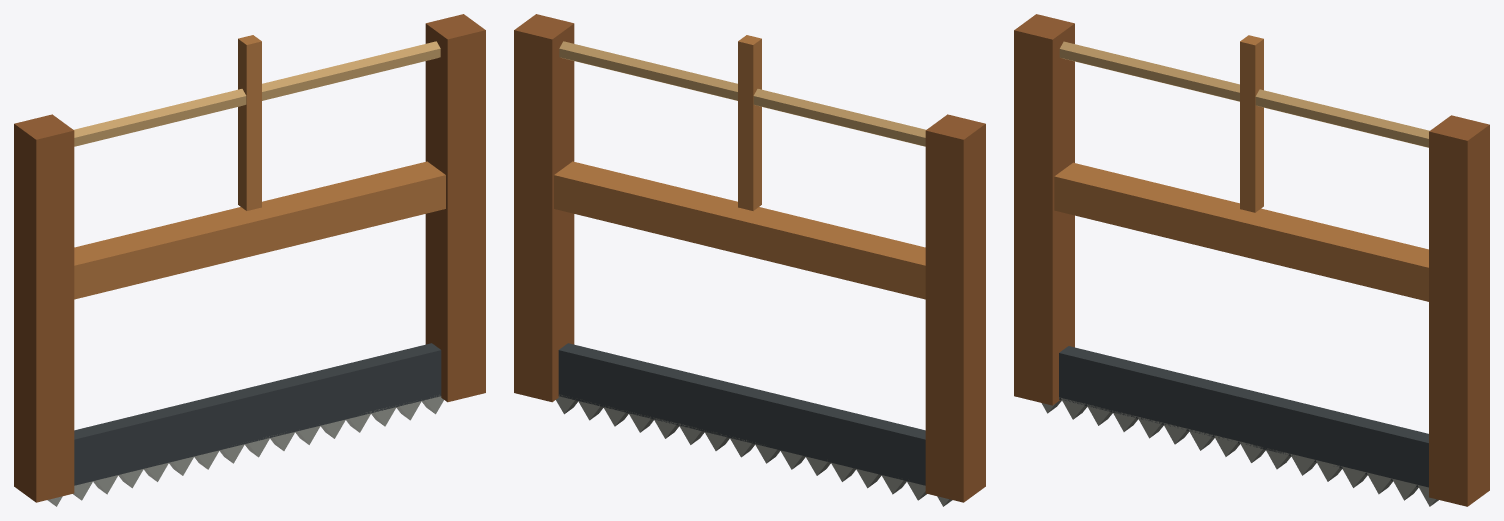
File: 74_bow_saw.fbx
3 renders of one model, left to right at view 1: azimuth 30°, elevation 25°; view 2: azimuth 150°, elevation 25°; view 3: azimuth 330°, elevation 25°, orthographic.
Visible parts, largest first — view 1: 74_bow_saw; view 2: 74_bow_saw; view 3: 74_bow_saw.
Boxes of the visible parts, box(x1,y1,x2,y2) form: 74_bow_saw: box(14, 14, 485, 506); 74_bow_saw: box(514, 14, 985, 506); 74_bow_saw: box(1014, 14, 1489, 506).
Bounding box in the file's own units: 0.765 × 0.675 × 0.065.
Materials: 1 (1 with a texture image).
